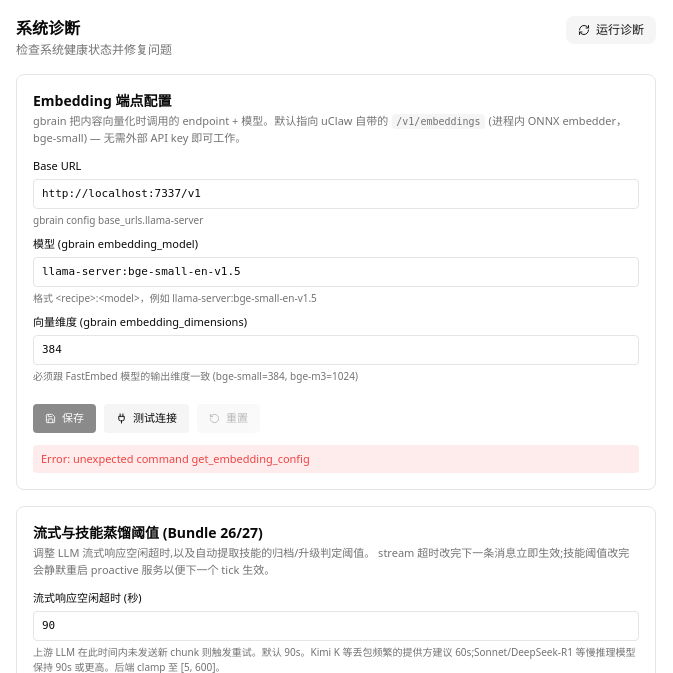
Test: SystemTab eval reporting › runs the agent control-plane eval and renders the scorecard
Click the button "运行诊断" at {"x": 611, "y": 30}, box [566,16,656,44]
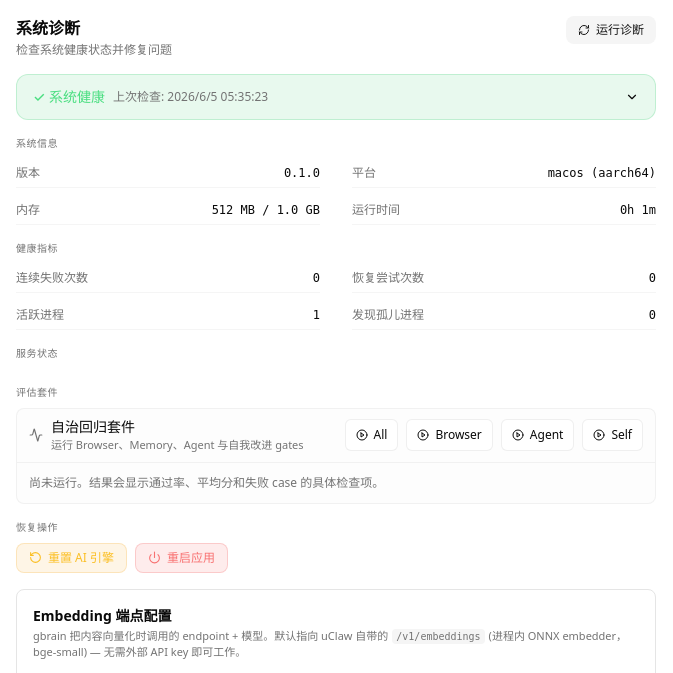
Check: the text "自治回归套件" is shown, box [51,417,135,436]
Click the button "Agent" at {"x": 538, "y": 435}, box [501,419,574,451]
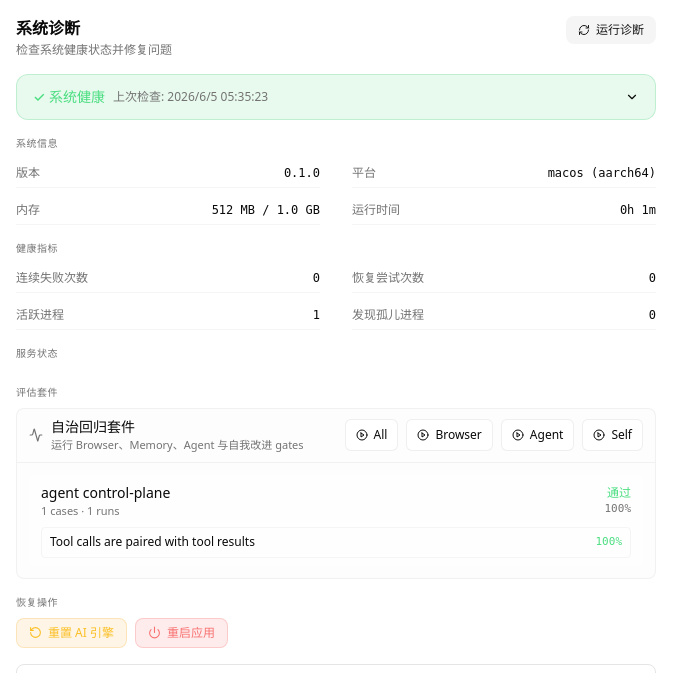
Check: the text "agent control-plane" is shown, box [41,482,170,502]
Check: the text "Tool calls are paired with tool results" is shown, box [50,533,255,550]
